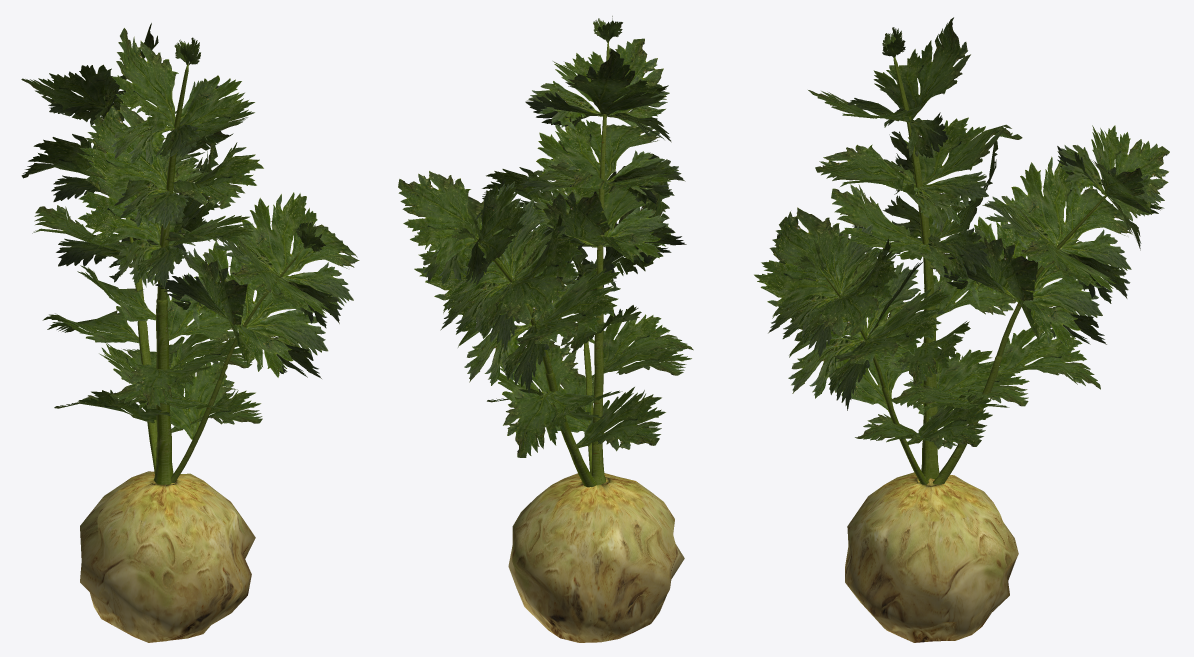
The picture shows the model from 3 angles, left to right: view 1: azimuth 30°, elevation 25°; view 2: azimuth 150°, elevation 25°; view 3: azimuth 270°, elevation 25°; orthographic projection.
Visible parts, largest first — view 1: VG02_2; view 2: VG02_2; view 3: VG02_2.
Boxes of the visible parts, x1,y1,x2,y2 form: VG02_2: [21, 23, 359, 642]; VG02_2: [398, 16, 693, 642]; VG02_2: [754, 17, 1169, 642].
Size of the model in its own units: 0.0864 by 0.2038 by 0.1344.
